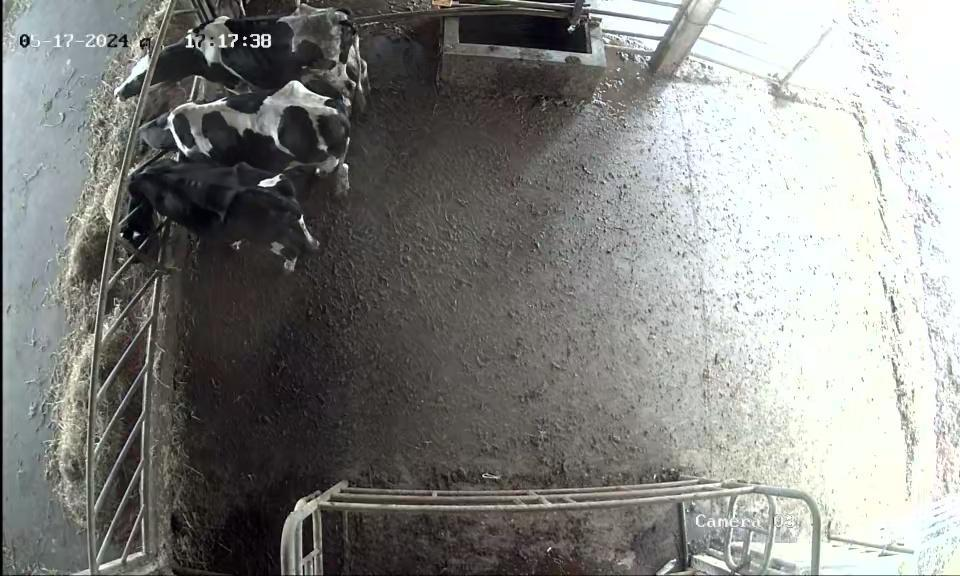eat: (95, 164, 205, 246), (100, 32, 212, 101), (108, 105, 205, 166)
